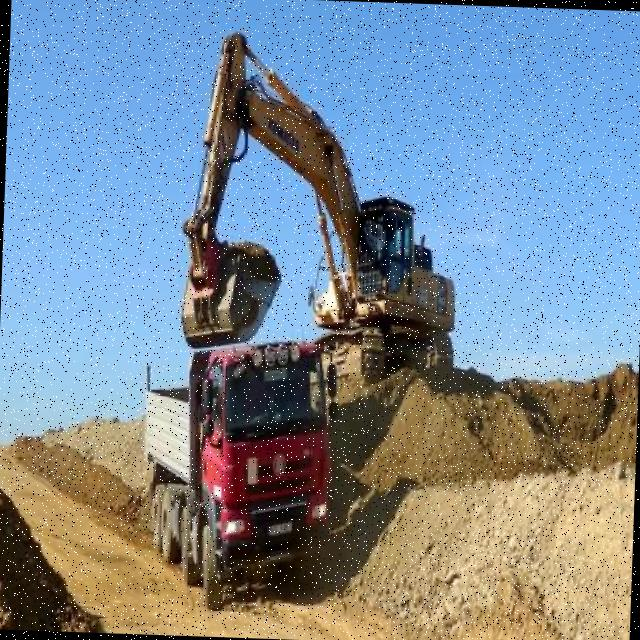Dump Truck: (135, 331, 341, 615)
Excavator: (176, 26, 464, 390)
